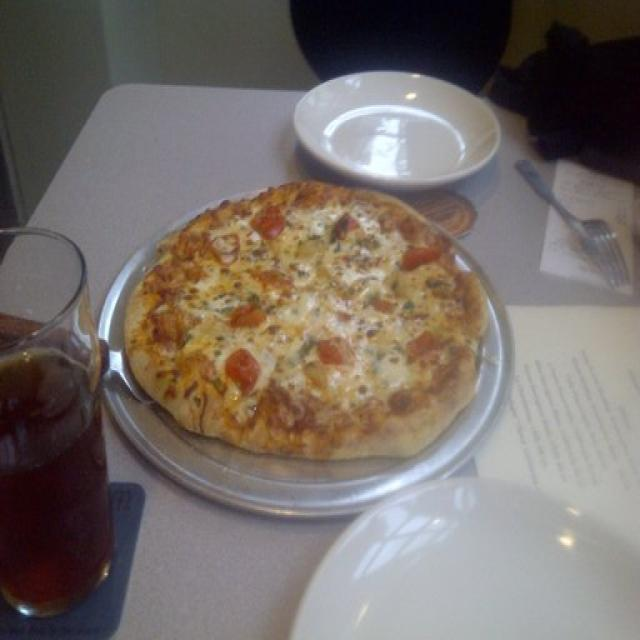Pizza: (126, 183, 481, 460)
Tomato: (223, 348, 258, 390), (319, 336, 354, 365), (402, 244, 440, 270), (254, 206, 282, 237), (408, 332, 434, 364), (230, 304, 264, 326)
